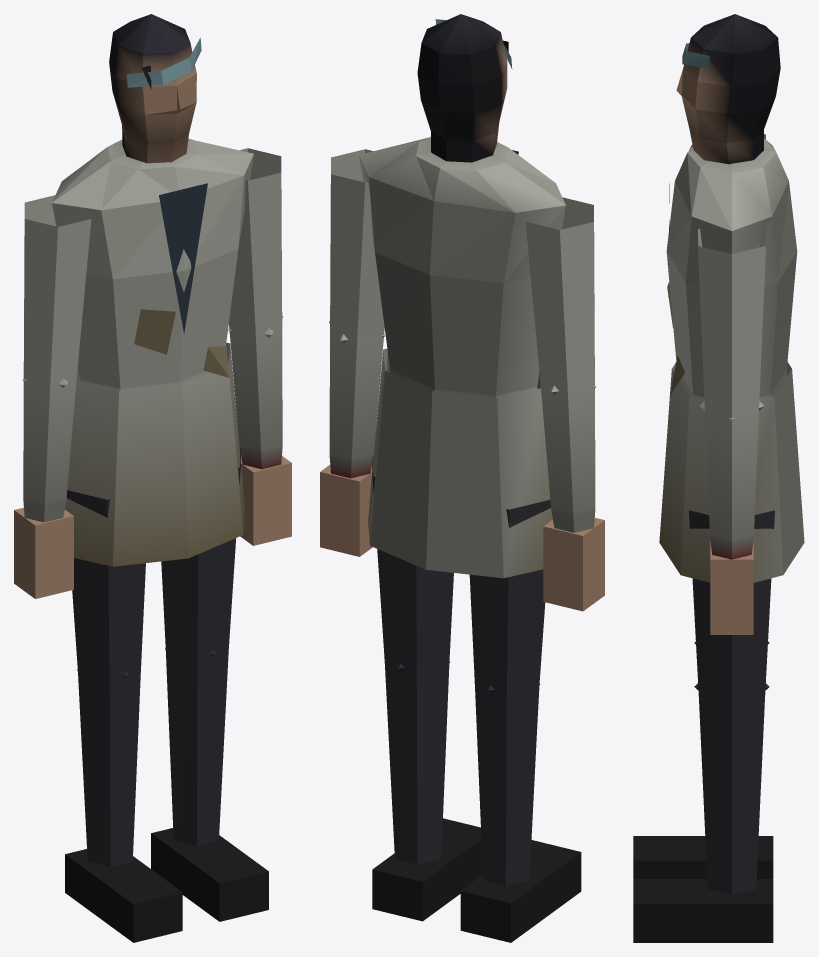
Rendered from patrick_horner_upright.obj.
3 renders of one model, left to right at view 1: azimuth 30°, elevation 25°; view 2: azimuth 150°, elevation 25°; view 3: azimuth 270°, elevation 25°, orthographic. The views are drawn at different scales.
Visible parts, largest first — view 1: patrick_horner; view 2: patrick_horner; view 3: patrick_horner.
Part boxes in pixels (x1,y1,x2,y2): patrick_horner: (14, 14, 291, 942); patrick_horner: (320, 14, 604, 942); patrick_horner: (633, 14, 804, 942).
Size of the model in its own units: 59.4 by 190 by 33.
